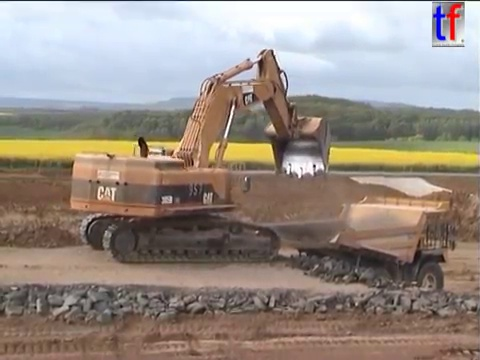excavator: (67, 46, 333, 265)
truck: (250, 193, 459, 306)
